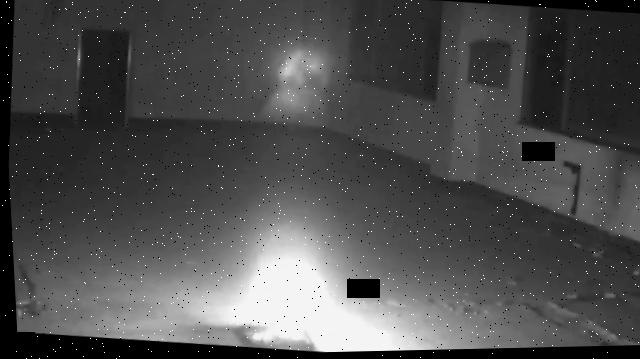fire: (233, 250, 334, 335)
smoke: (254, 31, 343, 130)
